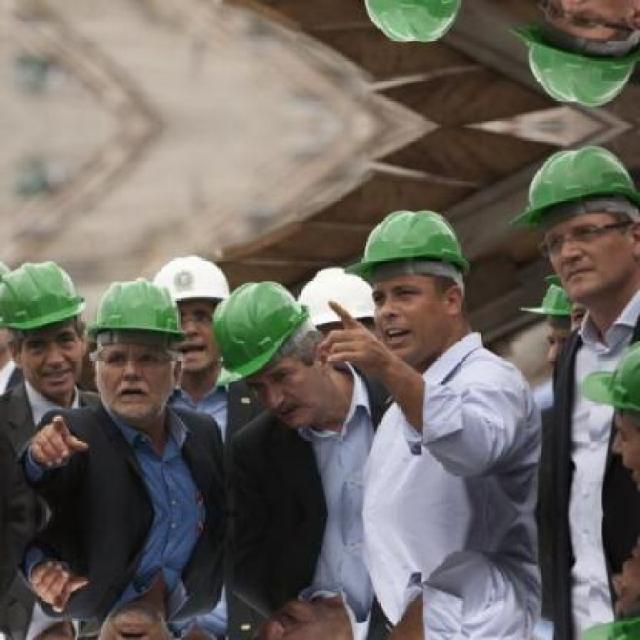helmet: (509, 144, 638, 298), (344, 205, 470, 358), (210, 280, 336, 426), (509, 0, 640, 106), (88, 274, 183, 418), (2, 256, 88, 396), (147, 249, 230, 369), (580, 338, 638, 480), (521, 272, 593, 371), (295, 267, 379, 351), (345, 0, 472, 45), (580, 544, 640, 638), (209, 598, 337, 638), (88, 606, 184, 639)
